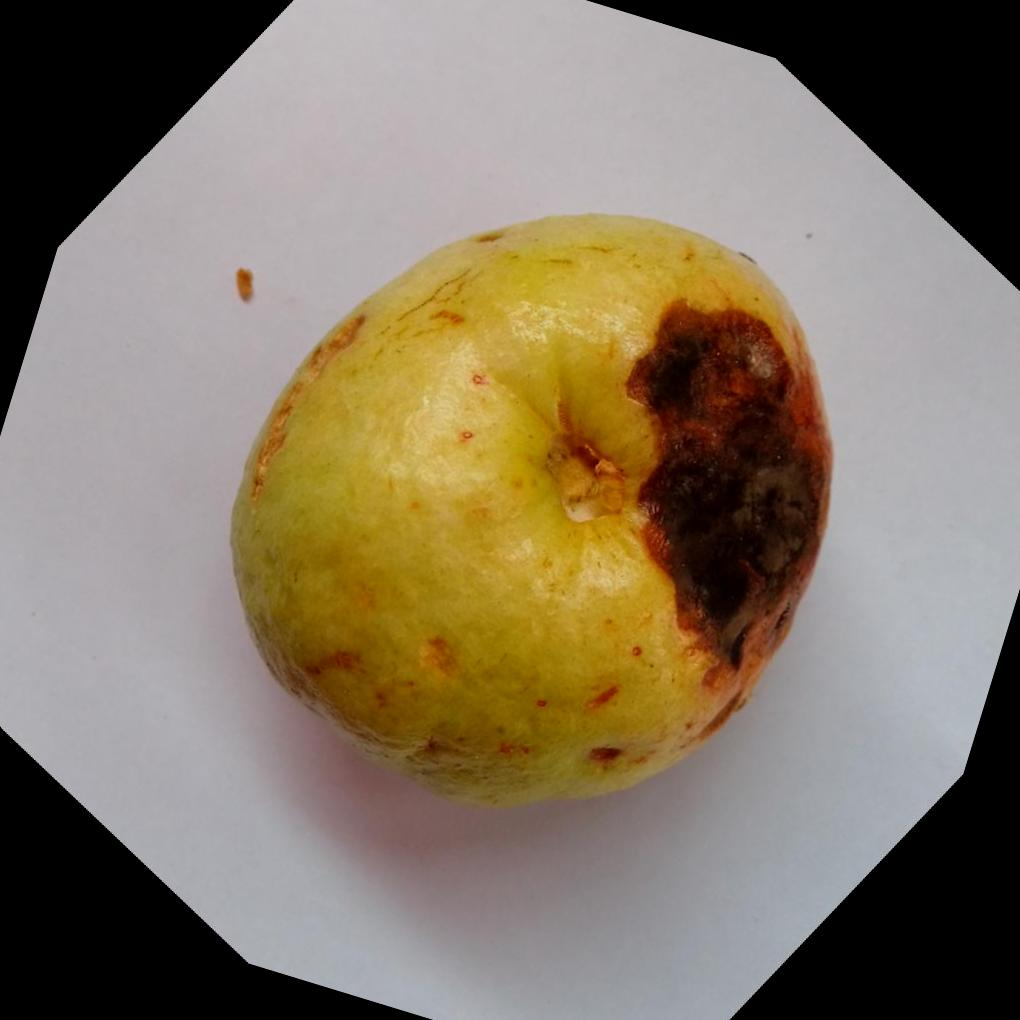FreshOrange: (227, 213, 833, 813)
